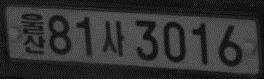0: (162, 20, 187, 62)
1: (189, 21, 210, 66), (73, 14, 94, 58)
3: (133, 18, 159, 60)
6: (216, 23, 244, 67)
8: (47, 14, 73, 56)
사: (101, 18, 126, 57)
울산_V: (20, 11, 46, 56)
